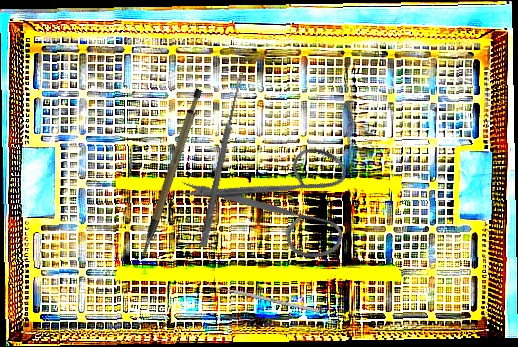Iris Scissors: (172, 102, 381, 307)
Pusher: (204, 282, 320, 314)
Scalpel Handle: (115, 86, 224, 257)
Surgical Spoon: (199, 72, 245, 248)
